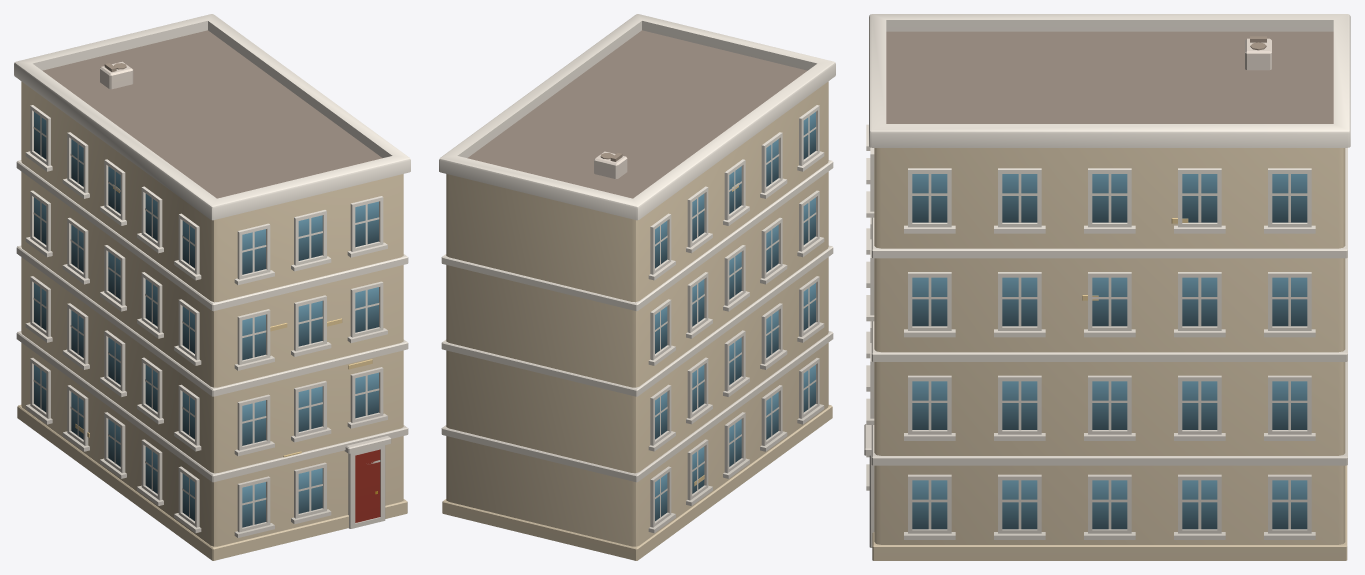
The model's file is boylston_s1.glb.
The picture shows the model from 3 angles, left to right: view 1: azimuth 30°, elevation 25°; view 2: azimuth 150°, elevation 25°; view 3: azimuth 270°, elevation 25°; orthographic projection. The views are drawn at different scales.
Visible parts, largest first — view 1: boylston_s1; view 2: boylston_s1; view 3: boylston_s1.
Boxes of the visible parts, x1,y1,x2,y2 form: boylston_s1: (14, 14, 410, 560); boylston_s1: (439, 14, 835, 560); boylston_s1: (864, 14, 1350, 560).
Bounding box in the file's own units: 8.48 × 14.51 × 14.46.
Materials: 1 (1 with a texture image).
